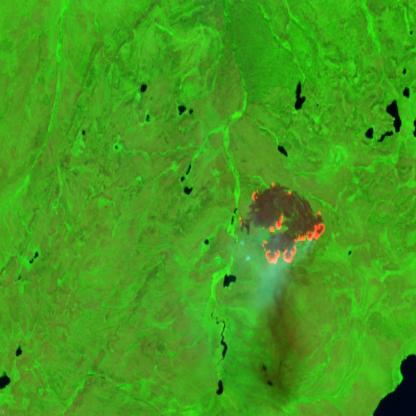fire: (236, 179, 328, 272)
